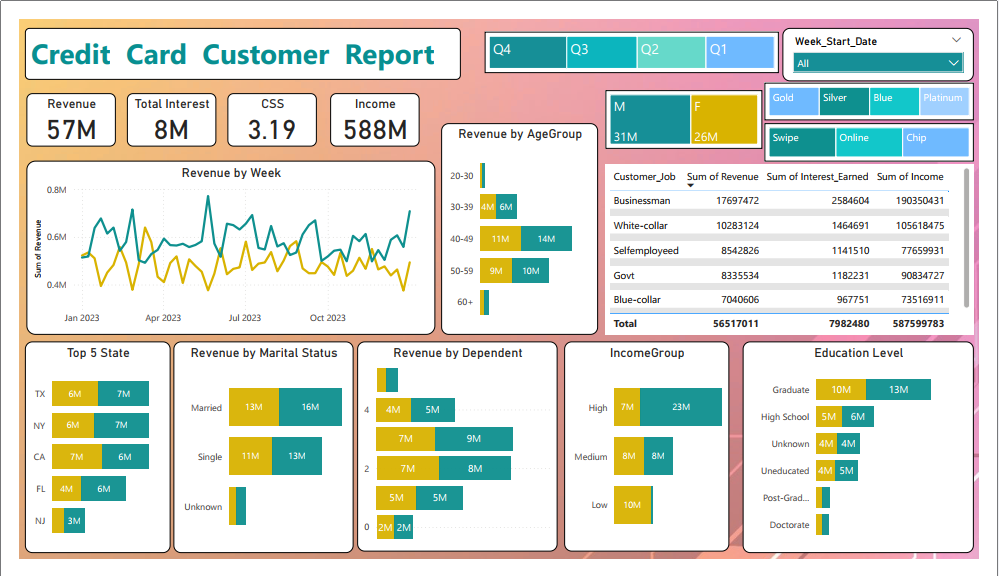

Layout of this report page (visuals, bound fields, positions):
{"tool":"powerbi","page":{"name":"CC Customer","canvas":[1280,720],"ordinal":1},"visuals":[{"type":"textbox","box":[8.3,12.4,580.8,68.8],"z":0},{"type":"barChart","title":"IncomeGroup","fields":{"Y":["Sum(ccdb cc_details.Revenue)"],"Category":["ccdb cust_details.IncomeGroup"],"Series":["ccdb cust_details.Gender"]},"box":[726.7,430.1,220.2,279.4],"z":1000},{"type":"tableEx","fields":{"Values":["ccdb cust_details.Customer_Job","Sum(ccdb cc_details.Revenue)","Sum(ccdb cc_details.Interest_Earned)","Sum(ccdb cust_details.Income)"]},"box":[781.8,192.7,491.4,228.5],"z":2000},{"type":"card","title":"Revenue","fields":{"Values":["Sum(ccdb cc_details.Revenue)"]},"box":[9.6,99.5,119.3,70.7],"z":3000},{"type":"card","title":"Total Interest","fields":{"Values":["Sum(ccdb cc_details.Interest_Earned)"]},"box":[143.7,99.5,119.3,70.7],"z":4000},{"type":"card","title":"CSS","fields":{"Values":["Avg(ccdb cust_details.Cust_Satisfaction_Score)"]},"box":[277.7,99.5,119.3,70.7],"z":5000},{"type":"card","title":"Income","fields":{"Values":["Sum(ccdb cust_details.Income)"]},"box":[414.7,99.5,119.3,70.7],"z":6000},{"type":"slicer","fields":{"Values":["ccdb cc_details.Week_Start_Date"]},"box":[1018.5,12.4,254.6,70.2],"z":7000},{"type":"treemap","fields":{"Group":["ccdb cc_details.Qtr"],"Values":["Avg(ccdb cc_details.Client_Num)"]},"box":[620.7,16.5,392.3,55.1],"z":8000},{"type":"treemap","fields":{"Values":["Avg(ccdb cc_details.Client_Num)"],"Group":["ccdb cc_details.Use_Chip"]},"box":[993.7,139,279.4,50.9],"z":9000},{"type":"lineChart","title":"Revenue by Week","fields":{"Series":["ccdb cust_details.Gender"],"Y":["Sum(ccdb cc_details.Revenue)"],"Category":["ccdb cc_details.Week_Start_Date.Variation.Date Hierarchy.Year","ccdb cc_details.Week_Start_Date.Variation.Date Hierarchy.Quarter","ccdb cc_details.Week_Start_Date.Variation.Date Hierarchy.Month","ccdb cc_details.Week_Start_Date.Variation.Date Hierarchy.Day"]},"box":[9.6,188.6,545,232.6],"z":10000},{"type":"treemap","fields":{"Values":["Sum(ccdb cc_details.Revenue)"],"Group":["ccdb cust_details.Gender"]},"box":[781.8,95,209.2,78.5],"z":11000},{"type":"barChart","title":"Revenue by AgeGroup","fields":{"Y":["Sum(ccdb cc_details.Revenue)"],"Category":["ccdb cust_details.AgeGroup"],"Series":["ccdb cust_details.Gender"]},"box":[562.9,139,209.2,282.2],"z":12000},{"type":"barChart","title":"Education Level","fields":{"Y":["Sum(ccdb cc_details.Revenue)"],"Category":["ccdb cust_details.Education_Level"],"Series":["ccdb cust_details.Gender"]},"box":[964.8,430.1,308.3,282.2],"z":13000},{"type":"barChart","title":"Revenue by Dependent","fields":{"Y":["Sum(ccdb cc_details.Revenue)"],"Category":["ccdb cust_details.Dependent_Count"],"Series":["ccdb cust_details.Gender"]},"box":[451.4,430.1,267,279.4],"z":14000},{"type":"barChart","title":"Top 5 State","fields":{"Y":["Sum(ccdb cc_details.Revenue)"],"Category":["ccdb cust_details.State_cd"],"Series":["ccdb cust_details.Gender"]},"box":[8.3,430.1,194.1,282.2],"z":15000},{"type":"barChart","title":"Revenue by Marital Status","fields":{"Y":["Sum(ccdb cc_details.Revenue)"],"Category":["ccdb cust_details.Marital_Status"],"Series":["ccdb cust_details.Gender"]},"box":[206.5,430.1,239.5,282.2],"z":16000},{"type":"treemap","fields":{"Values":["Avg(ccdb cc_details.Client_Num)"],"Group":["ccdb cc_details.Card_Category"]},"box":[993.7,85.3,279.4,49.5],"z":17000}]}

Visuals, with their boxes in screenshot pixels (x1, y1, x2, y2), scaled from the page's 1280x720 canvas onto the 999x576 screenshot:
textbox: BBox(6, 10, 460, 65)
"IncomeGroup" barChart: BBox(567, 344, 739, 568)
tableEx - ccdb cust_details.Customer_Job x Sum(ccdb cc_details.Revenue): BBox(610, 154, 994, 337)
"Revenue" card: BBox(7, 80, 101, 136)
"Total Interest" card: BBox(112, 80, 205, 136)
"CSS" card: BBox(217, 80, 310, 136)
"Income" card: BBox(324, 80, 417, 136)
slicer - ccdb cc_details.Week_Start_Date: BBox(795, 10, 994, 66)
treemap - ccdb cc_details.Qtr x Avg(ccdb cc_details.Client_Num): BBox(484, 13, 791, 57)
treemap - Avg(ccdb cc_details.Client_Num) x ccdb cc_details.Use_Chip: BBox(776, 111, 994, 152)
"Revenue by Week" lineChart: BBox(7, 151, 433, 337)
treemap - Sum(ccdb cc_details.Revenue) x ccdb cust_details.Gender: BBox(610, 76, 773, 139)
"Revenue by AgeGroup" barChart: BBox(439, 111, 603, 337)
"Education Level" barChart: BBox(753, 344, 994, 570)
"Revenue by Dependent" barChart: BBox(352, 344, 561, 568)
"Top 5 State" barChart: BBox(6, 344, 158, 570)
"Revenue by Marital Status" barChart: BBox(161, 344, 348, 570)
treemap - Avg(ccdb cc_details.Client_Num) x ccdb cc_details.Card_Category: BBox(776, 68, 994, 108)
